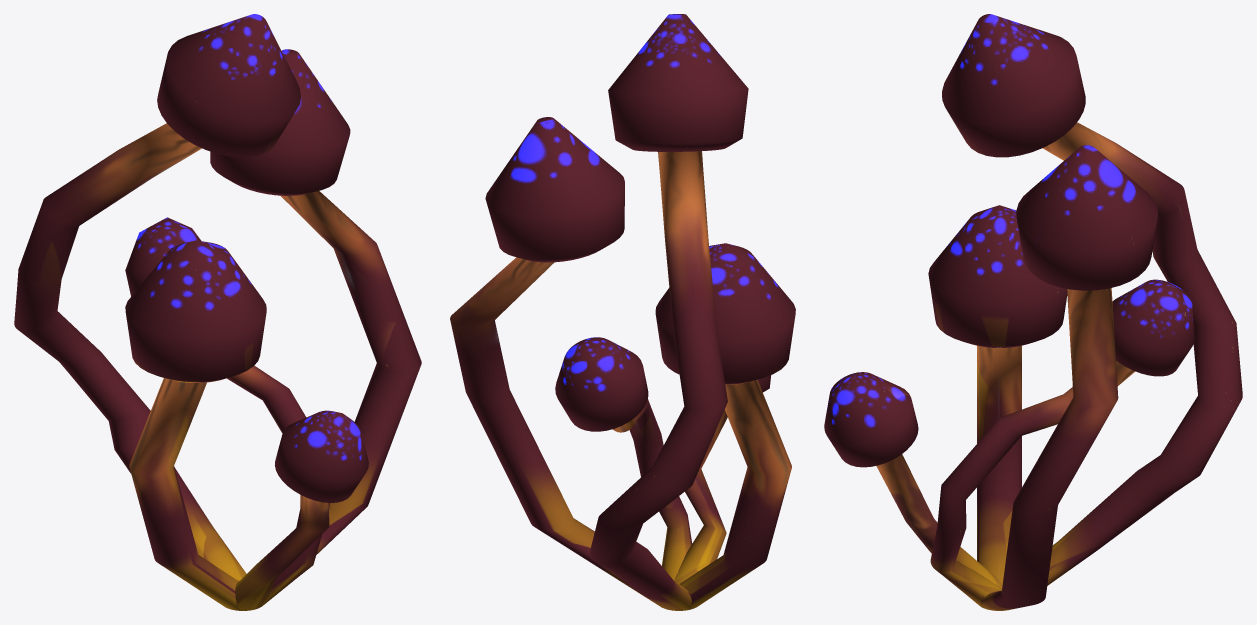
Rendered from fungus.fbx.
3 renders of one model, left to right at view 1: azimuth 30°, elevation 25°; view 2: azimuth 150°, elevation 25°; view 3: azimuth 270°, elevation 25°, orthographic.
Parts seen in each view (by area): view 1: Circle.001; view 2: Circle.001; view 3: Circle.001.
Boxes of the visible parts, bbox=[...] form: Circle.001: bbox=[14, 14, 421, 610]; Circle.001: bbox=[450, 14, 795, 610]; Circle.001: bbox=[824, 14, 1242, 610].
Size of the model in its own units: 591 by 1013 by 653.
